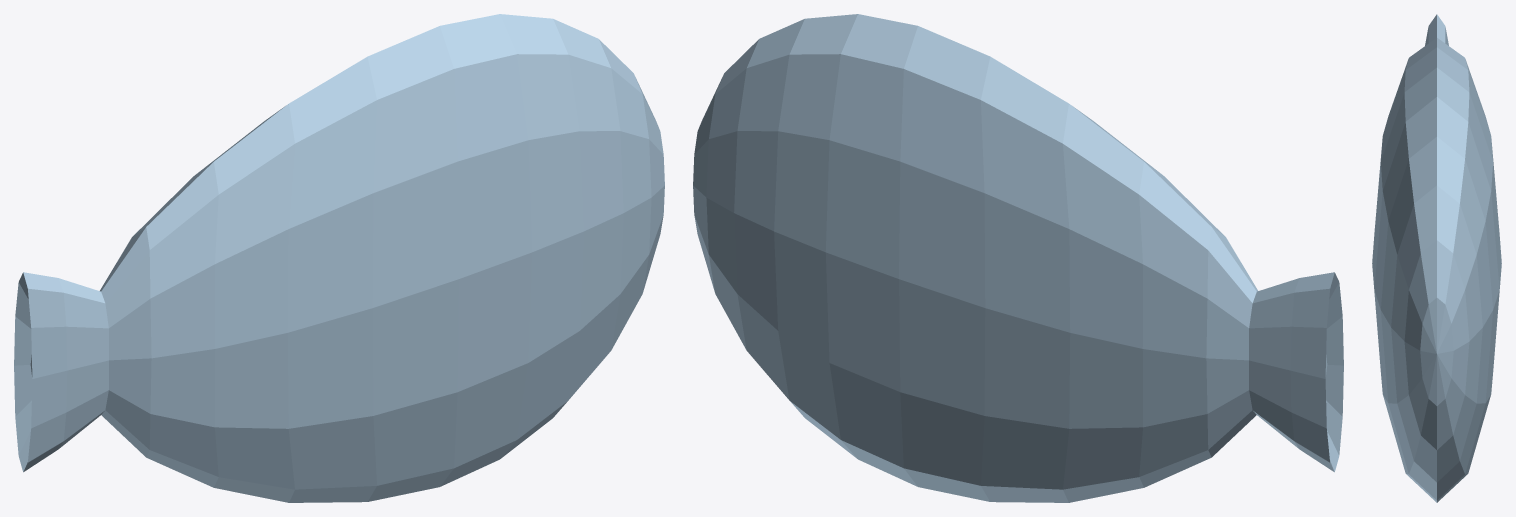
File: Fish03_v1.fbx
3 renders of one model, left to right at view 1: azimuth 30°, elevation 25°; view 2: azimuth 150°, elevation 25°; view 3: azimuth 270°, elevation 25°, orthographic. The views are drawn at different scales.
Visible parts, largest first — view 1: Fish03; view 2: Fish03; view 3: Fish03.
Boxes of the visible parts, left/top/right/bottom form: Fish03: left=14, top=14, right=664, bottom=502; Fish03: left=693, top=14, right=1343, bottom=502; Fish03: left=1372, top=14, right=1501, bottom=502.
Size of the model in its own units: 38.94 by 26.82 by 7.5.
